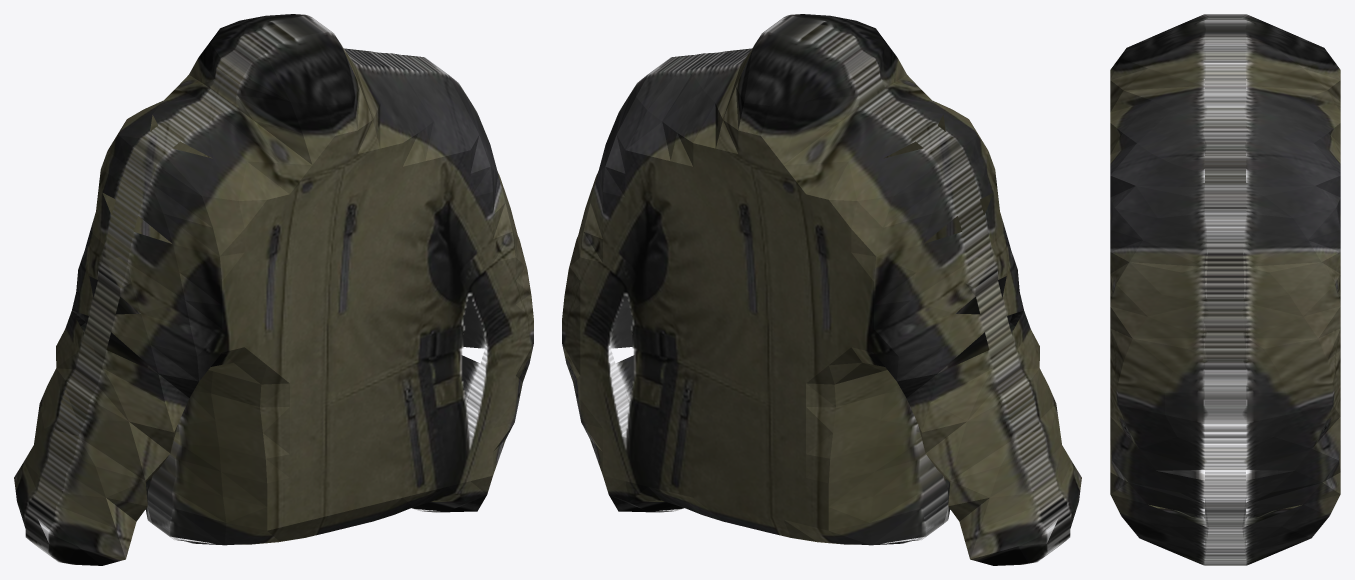
The model's file is hjc-apex-textile-jacket-007.glb.
3 renders of one model, left to right at view 1: azimuth 30°, elevation 25°; view 2: azimuth 150°, elevation 25°; view 3: azimuth 270°, elevation 25°, orthographic. The views are drawn at different scales.
Parts seen in each view (by area): view 1: world; view 2: world; view 3: world.
Boxes of the visible parts, x1=… form: world: x1=14, y1=14, x2=533, y2=565; world: x1=562, y1=14, x2=1081, y2=565; world: x1=1110, y1=14, x2=1340, y2=565.
Bounding box in the file's own units: 0.9752 × 1 × 0.44.
1 material, 1 textured.
